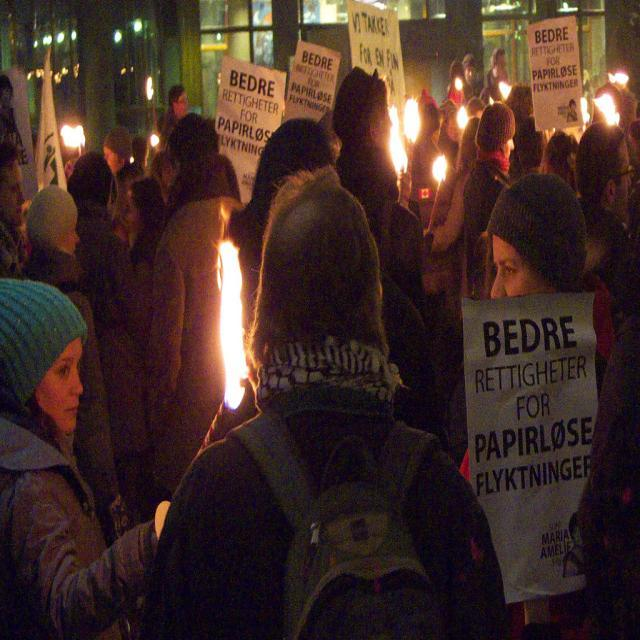Fire: (218, 243, 258, 408), (390, 94, 450, 191)
